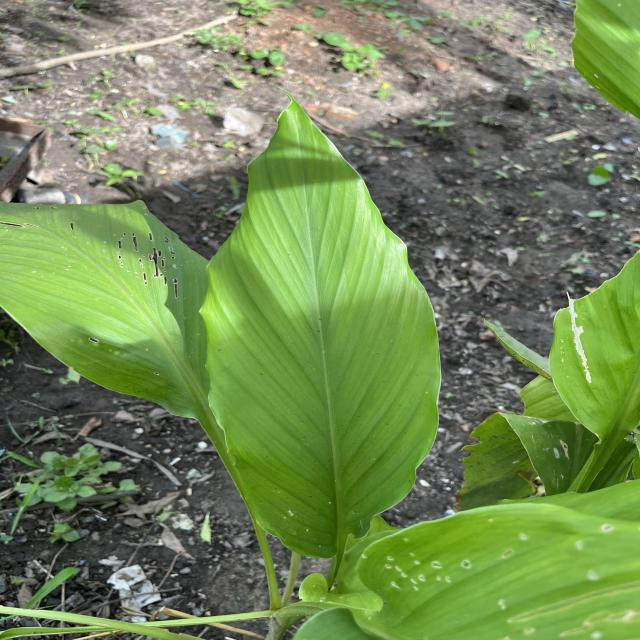Curcuma longa: (193, 80, 445, 562)
